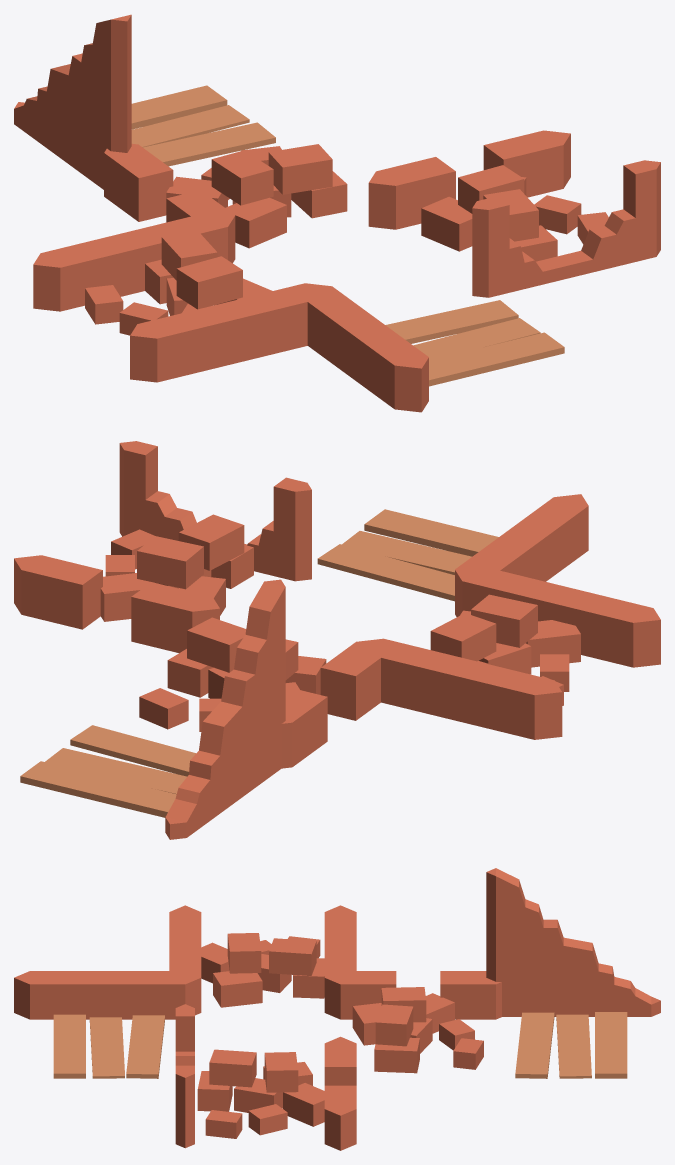
The model's file is Casa 3 Rota.obj.
The picture shows the model from 3 angles, top to bottom: view 1: azimuth 30°, elevation 25°; view 2: azimuth 150°, elevation 25°; view 3: azimuth 270°, elevation 25°; orthographic projection. The views are drawn at different scales.
Size of the model in its own units: 3.21 by 1 by 4.16.
